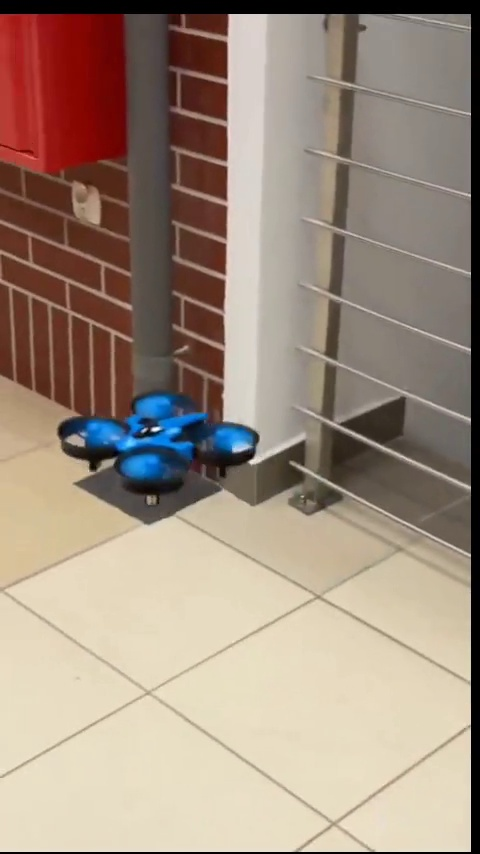drone: (54, 383, 259, 513)
